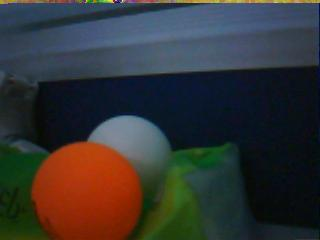oball: (30, 142, 140, 239)
